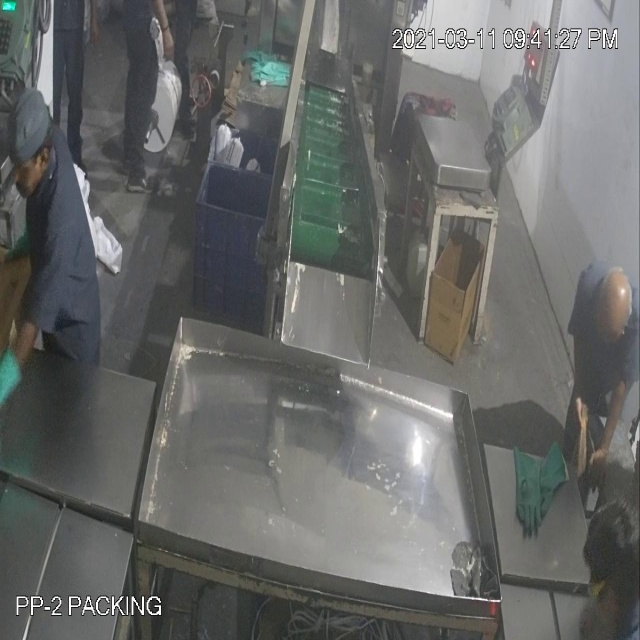Sin_guantes: (586, 365, 631, 508), (150, 1, 176, 70)
